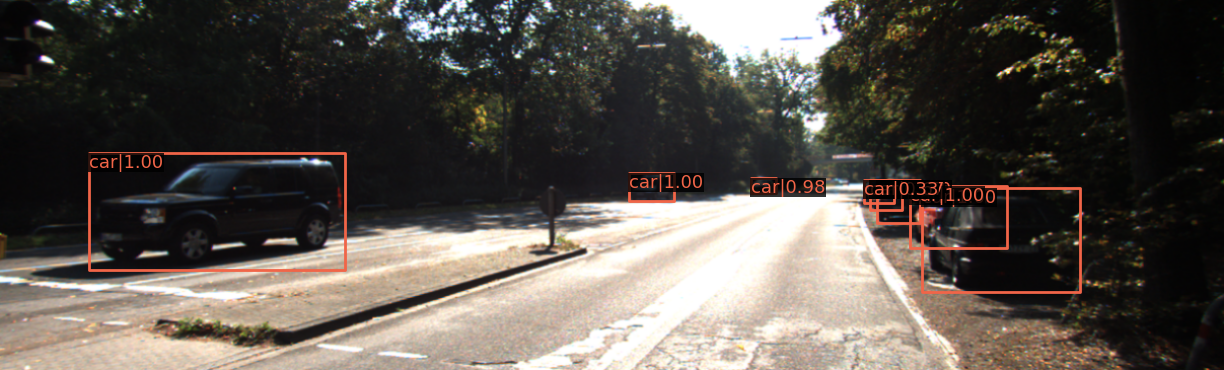car: (931, 192, 1088, 296), (910, 182, 1019, 255), (877, 180, 921, 221), (629, 174, 675, 203)
